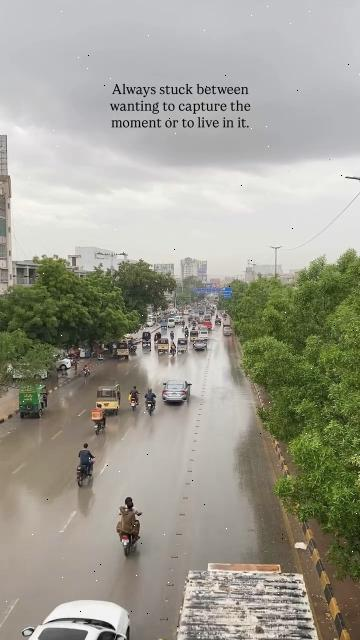Bike: (119, 527, 136, 558), (74, 463, 89, 489), (93, 419, 104, 436), (146, 401, 154, 416), (130, 397, 137, 411), (171, 348, 176, 358)
Car: (23, 598, 133, 640), (161, 378, 192, 407), (192, 338, 207, 351)
Cart: (171, 342, 175, 350)
Person: (117, 501, 137, 532), (77, 441, 93, 469), (143, 387, 157, 402), (129, 384, 138, 399)
Rickshaw: (17, 383, 49, 420), (95, 382, 122, 415), (176, 337, 189, 355), (116, 342, 129, 360), (157, 337, 169, 355)
Truck: (172, 561, 321, 640)
